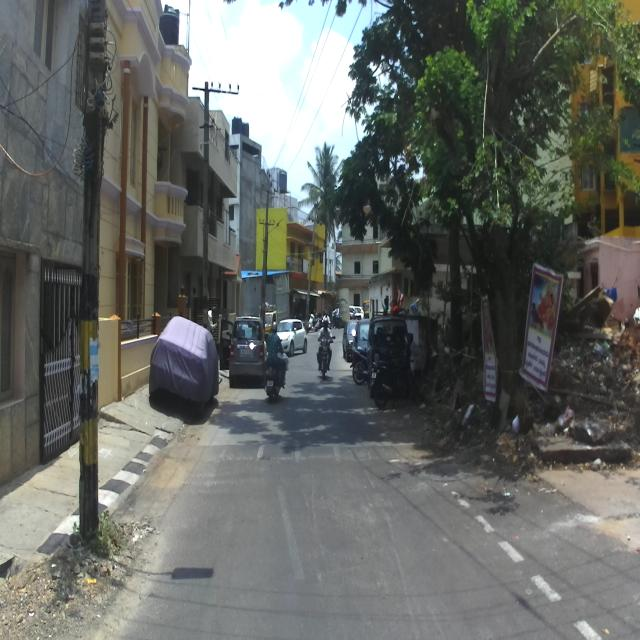car ahead at: (150, 309, 216, 420), (228, 309, 263, 382)
electric pole ahead at: (69, 0, 113, 559)
